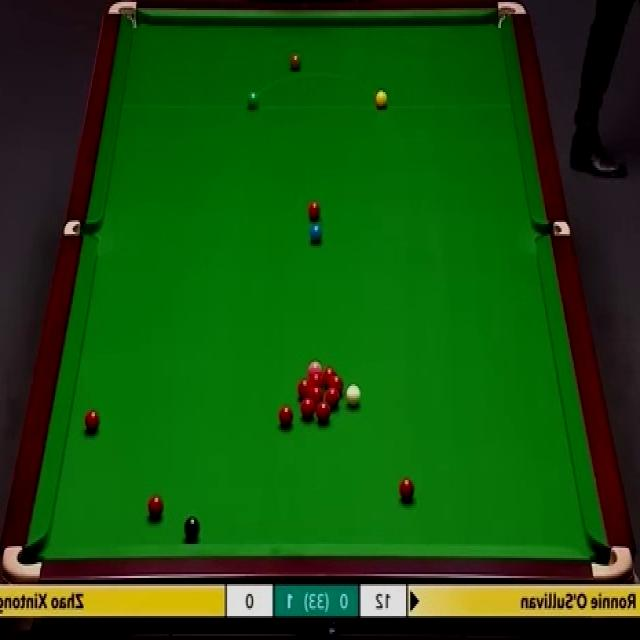pocket: (590, 543, 633, 582), (3, 542, 43, 583), (495, 0, 529, 34), (109, 0, 137, 29), (536, 222, 572, 236), (64, 222, 100, 236)
